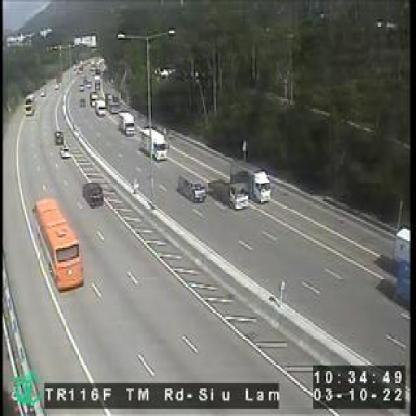Bus: (30, 198, 84, 288), (102, 88, 119, 113), (25, 94, 35, 116)
Car: (180, 173, 204, 201), (81, 182, 104, 205), (95, 99, 107, 114), (58, 147, 73, 158), (54, 132, 62, 144)
Truck: (228, 160, 270, 201), (207, 179, 248, 208), (138, 127, 169, 161), (117, 111, 134, 137)
